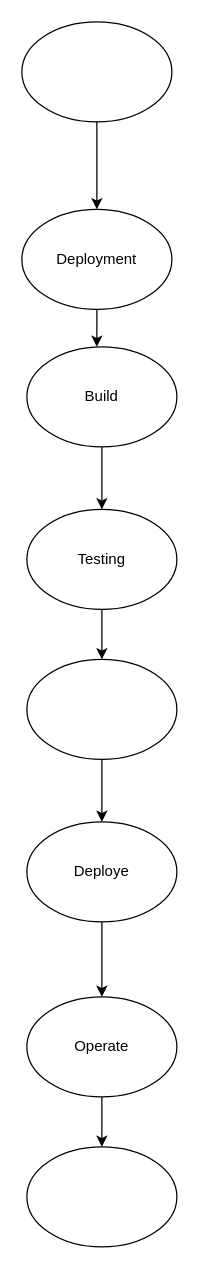
The diagram is 199 pixels wide and 1269 high, and some of its shapes have lost their labels. Here are the shapes that lost their labels. From the top down, the centre of each, then its label:
At point 96,71: "Planning".
At point 101,708: "Release".
At point 101,1196: "Monitor".
